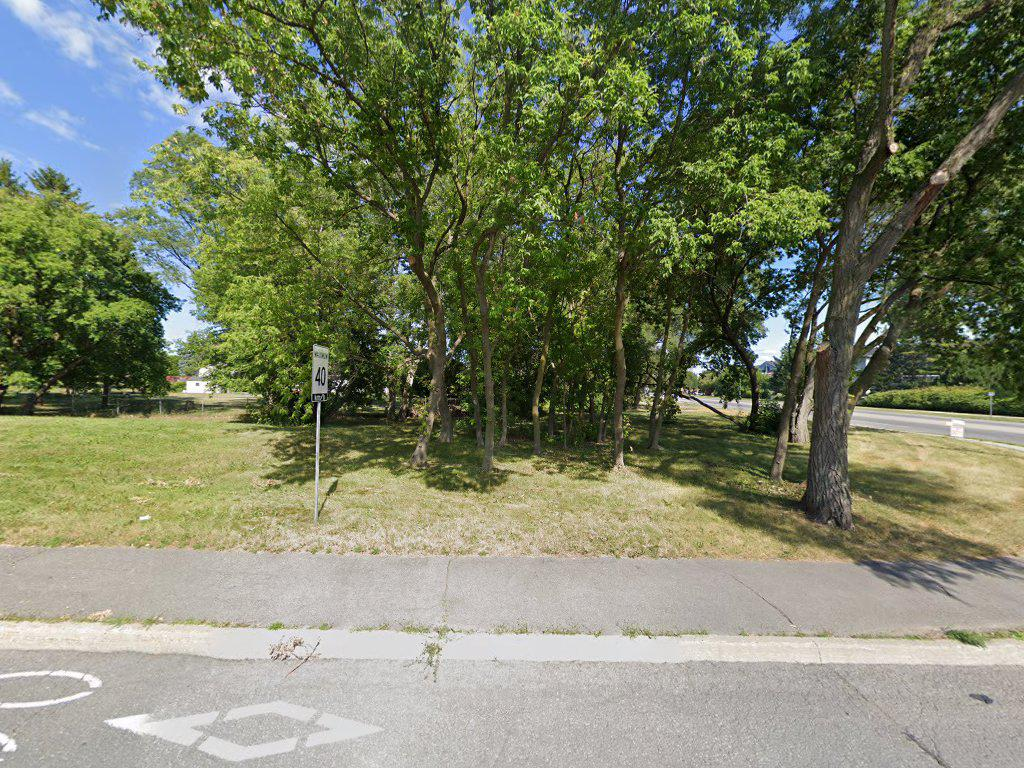trunk: (802, 273, 865, 540), (427, 307, 454, 452), (611, 303, 632, 480)
